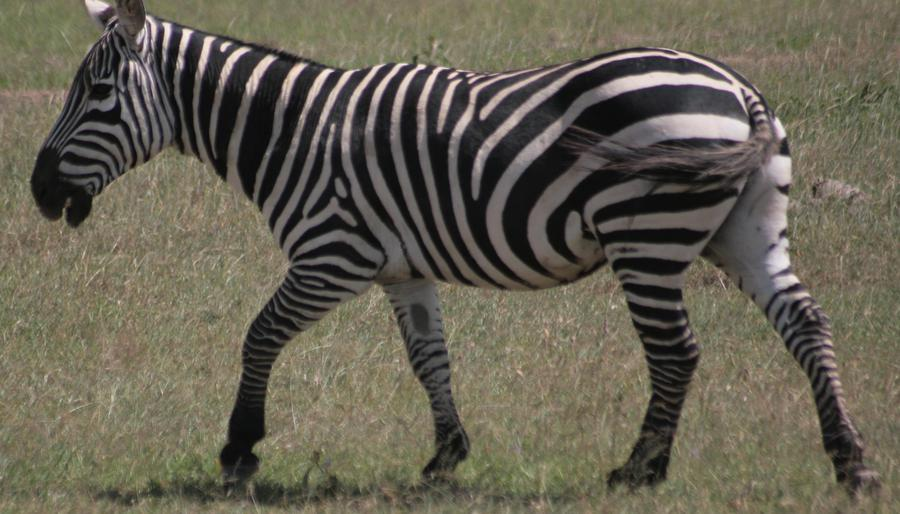zebra_plains: (268, 47, 699, 303)
